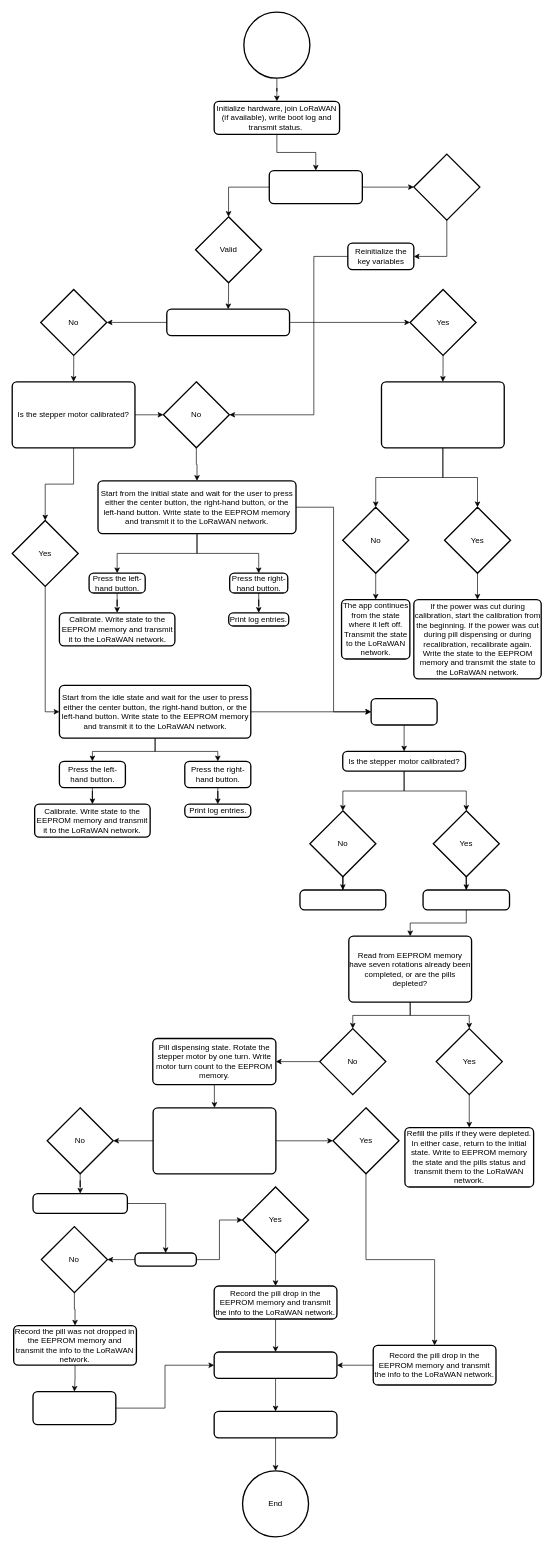
Image size: 553x1548. Some labels were removed from this diagram. Here are the shapes that lost their labels. From the top down, the centre of each, then its label:
pixel 276 45: Start
pixel 315 187: Check the integrity of key state variables in the EEPROM memory
pixel 446 186: Not valid
pixel 228 322: Was the power to the application cut?
pixel 442 414: Was the power cut while the stepper motor was running?
pixel 403 711: Press the center button.
pixel 342 899: Print: "Calibrate first."
pixel 466 899: Pill dispensing state
pixel 214 1140: Was the pill dispensed in the pill dispensing state?
pixel 80 1203: Waiting pill to drop state
pixel 165 1259: Pill dispensed
pixel 275 1365: Wait 30 seconds in wait_turn_st.
pixel 74 1408: Pill not dropped state. Blink light 5 times.
pixel 275 1424: Go back to pill dispensing state.
